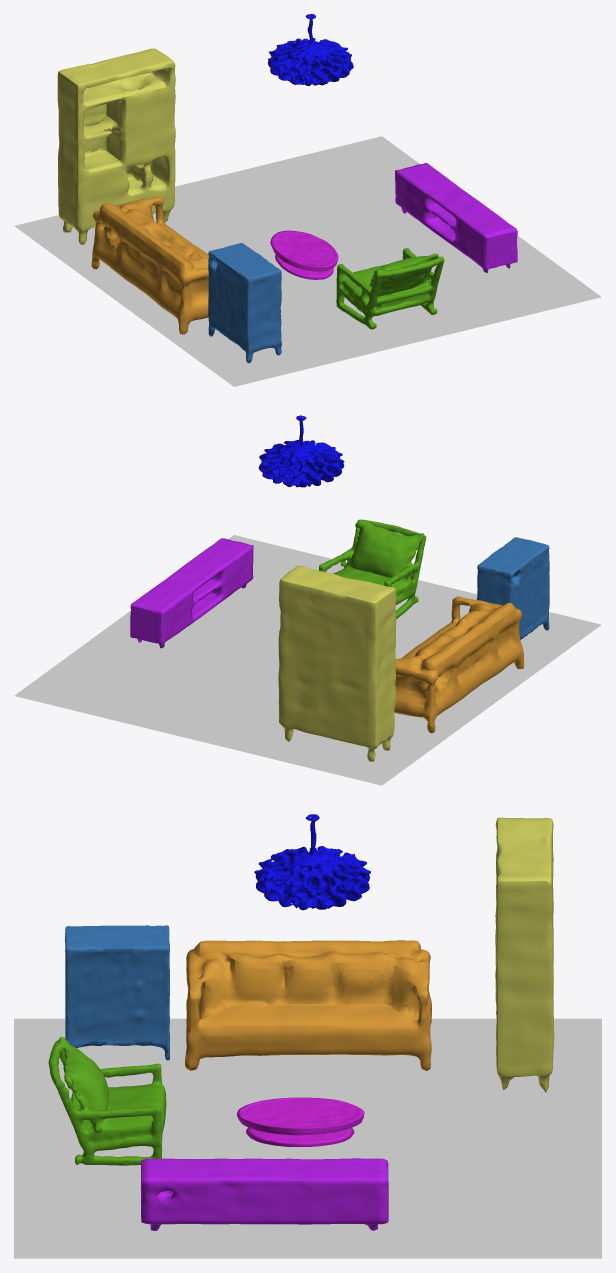
The model's file is Livingroom2.glb.
The picture shows the model from 3 angles, top to bottom: view 1: azimuth 30°, elevation 25°; view 2: azimuth 150°, elevation 25°; view 3: azimuth 270°, elevation 25°; orthographic projection. The views are drawn at different scales.
Parts seen in each view (by area): view 1: world; view 2: world; view 3: world.
Boxes of the visible parts, x1,y1,x2,y2 form: world: [14, 14, 601, 386]; world: [14, 415, 601, 785]; world: [14, 814, 601, 1258].
Size of the model in its own units: 4.63 by 2.93 by 4.8.
